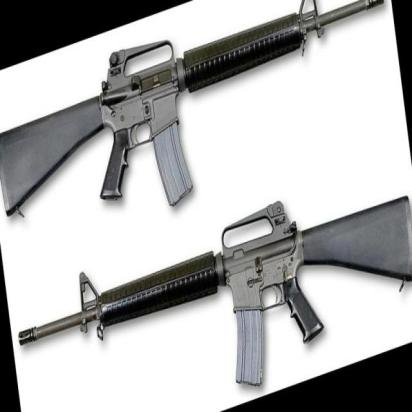Gun: (16, 196, 412, 388), (0, 0, 387, 195)
